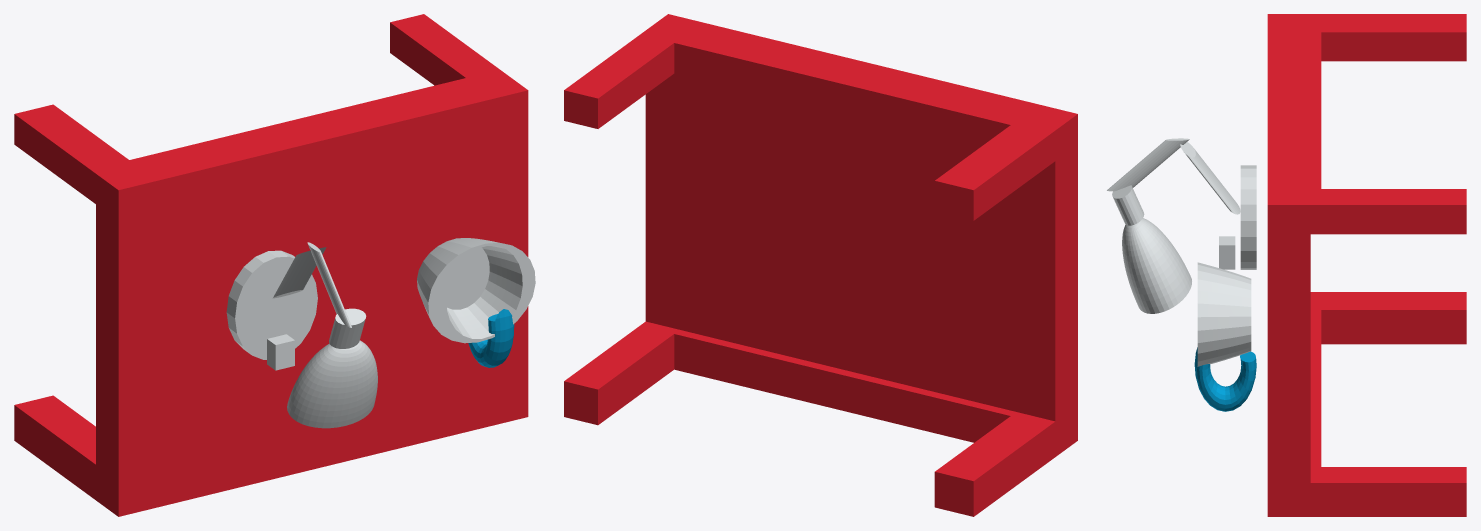
File: tinker.obj
3 views of the same model, side by side, from view 1: azimuth 30°, elevation 25°; view 2: azimuth 150°, elevation 25°; view 3: azimuth 270°, elevation 25° (orthographic). The views are drawn at different scales.
Parts seen in each view (by area): view 1: group_0_15277357, group_0_14541540, group_0_40919; view 2: group_0_15277357; view 3: group_0_15277357, group_0_14541540, group_0_40919.
Part boxes in pixels (x1,y1,x2,y2): group_0_15277357: (14, 14, 528, 516); group_0_14541540: (226, 238, 535, 428); group_0_40919: (468, 309, 514, 367); group_0_15277357: (564, 14, 1077, 516); group_0_15277357: (1267, 14, 1466, 516); group_0_14541540: (1107, 138, 1256, 366); group_0_40919: (1194, 347, 1256, 411).
Size of the model in its own units: 84 by 64 by 66.94.
